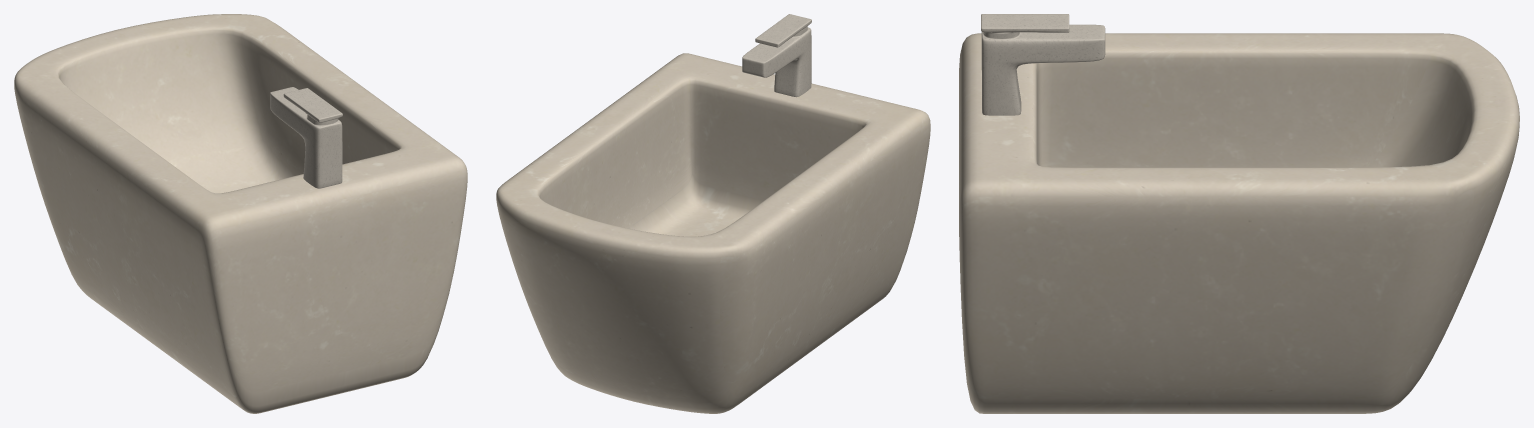
File: bidet.fbx
3 views of the same model, side by side, from view 1: azimuth 30°, elevation 25°; view 2: azimuth 150°, elevation 25°; view 3: azimuth 270°, elevation 25° (orthographic). The views are drawn at different scales.
Parts seen in each view (by area): view 1: Cube; view 2: Cube; view 3: Cube.
Part boxes in pixels (box(x1,y1,x2,y2)): Cube: box(14, 14, 467, 413); Cube: box(496, 14, 930, 413); Cube: box(959, 14, 1519, 413).
Bounding box in the file's own units: 50.62 × 51.25 × 75.31.
